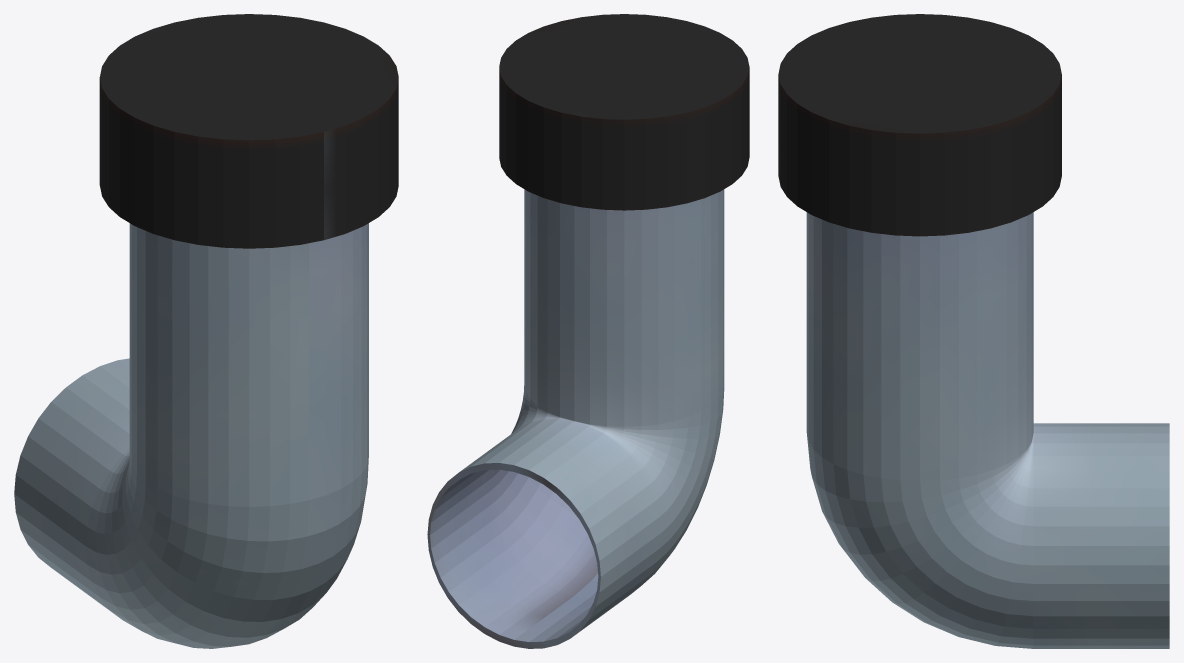
File: tube_down.fbx
3 renders of one model, left to right at view 1: azimuth 30°, elevation 25°; view 2: azimuth 150°, elevation 25°; view 3: azimuth 270°, elevation 25°, orthographic. The views are drawn at different scales.
Visible parts, largest first — view 1: tube_down; view 2: tube_down; view 3: tube_down.
Boxes of the visible parts, <box> form: tube_down: <box>14,14,398,648</box>; tube_down: <box>427,14,749,648</box>; tube_down: <box>778,14,1169,648</box>.
Size of the model in its own units: 25 by 55 by 34.5.
